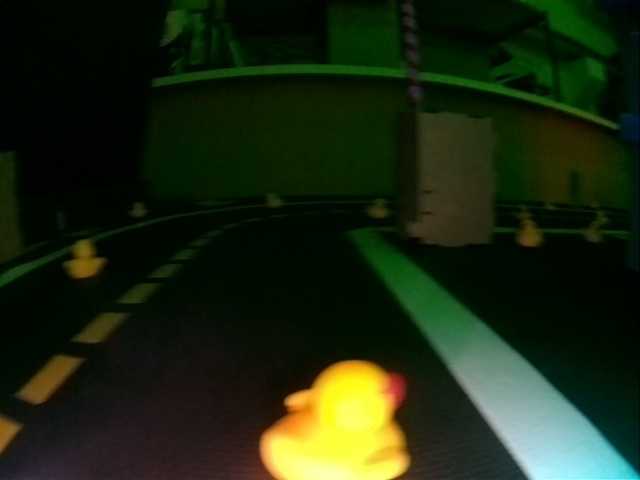Duckie: (261, 360, 409, 476), (63, 243, 105, 279), (515, 218, 542, 247), (368, 196, 391, 218), (263, 191, 284, 207), (129, 201, 146, 218)
